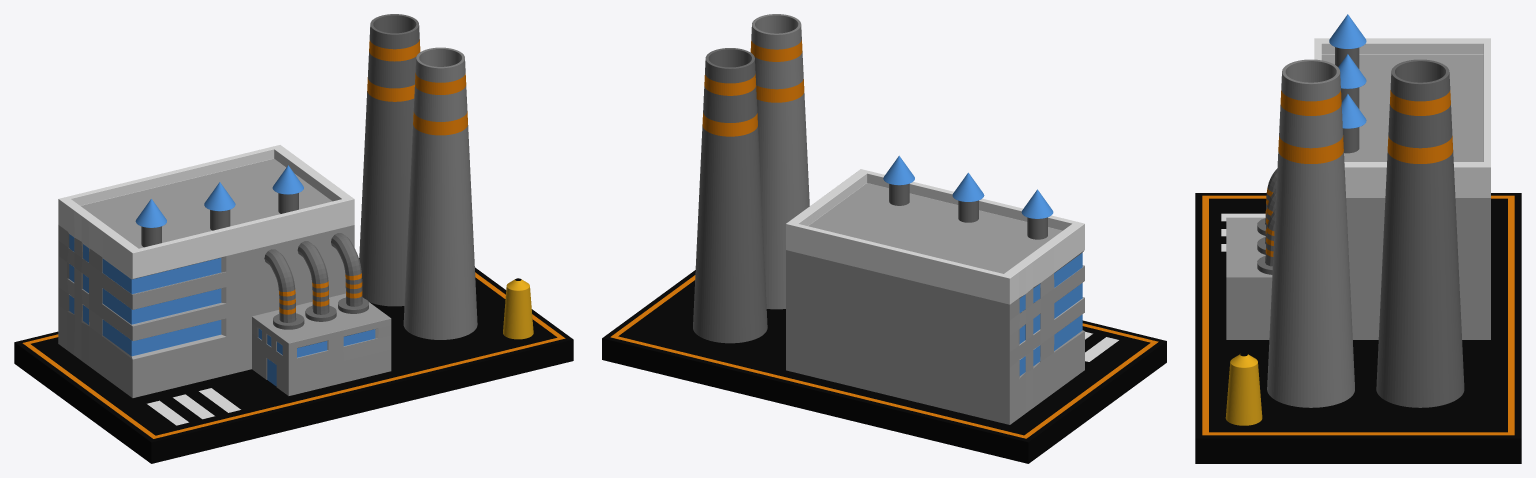
File: Factory.fbx
3 renders of one model, left to right at view 1: azimuth 30°, elevation 25°; view 2: azimuth 150°, elevation 25°; view 3: azimuth 270°, elevation 25°, orthographic. The views are drawn at different scales.
Visible parts, largest first — view 1: Factory; view 2: Factory; view 3: Factory.
Part boxes in pixels (x1,y1,x2,y2): Factory: (14,14,573,463); Factory: (602,14,1166,463); Factory: (1195,14,1521,463).
Bounding box in the file's own units: 590 × 385 × 332.
